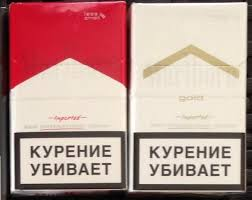marlboro: (10, 3, 127, 190)
